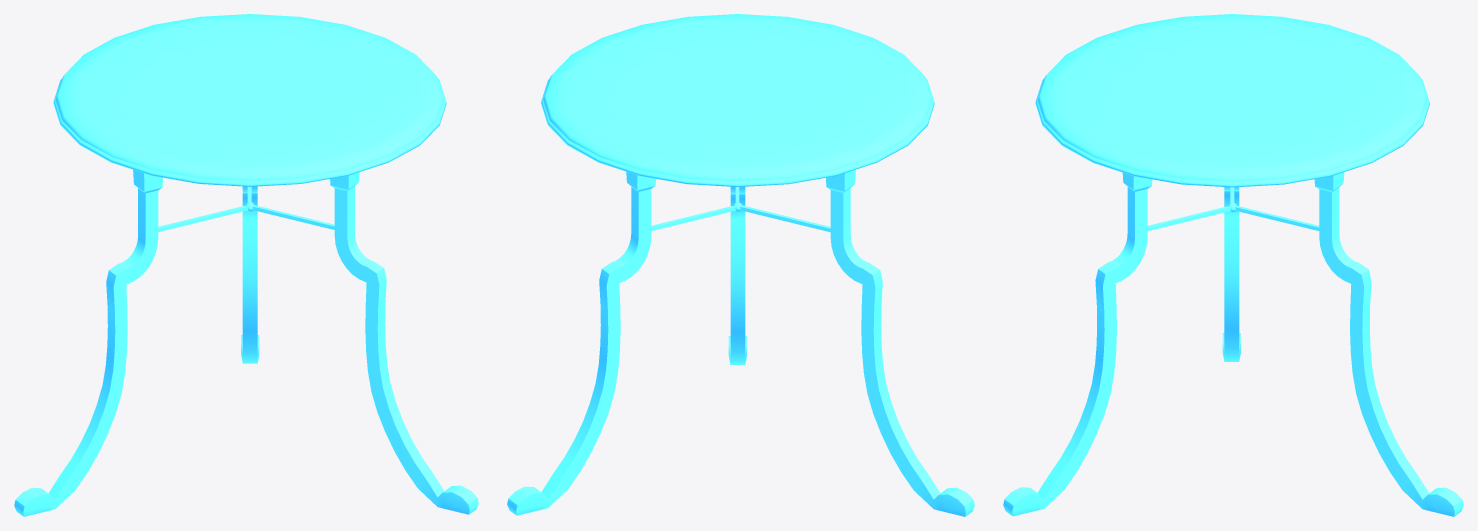
The model's file is Table_Model_Story5.fbx.
3 views of the same model, side by side, from view 1: azimuth 30°, elevation 25°; view 2: azimuth 150°, elevation 25°; view 3: azimuth 270°, elevation 25° (orthographic).
Parts seen in each view (by area): view 1: Sphere001; view 2: Sphere001; view 3: Sphere001.
Boxes of the visible parts, bbox=[...] form: Sphere001: bbox=[14, 14, 478, 516]; Sphere001: bbox=[507, 14, 974, 516]; Sphere001: bbox=[1003, 14, 1463, 516].
Bounding box in the file's own units: 93.75 × 81.53 × 92.72.
